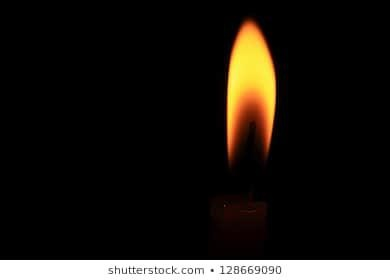fire: (224, 16, 279, 161)
